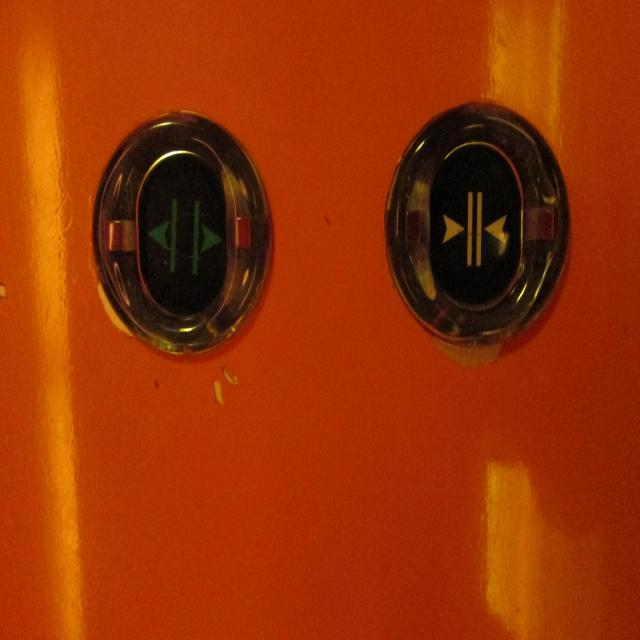close: (383, 100, 569, 355)
open: (90, 110, 272, 359)
